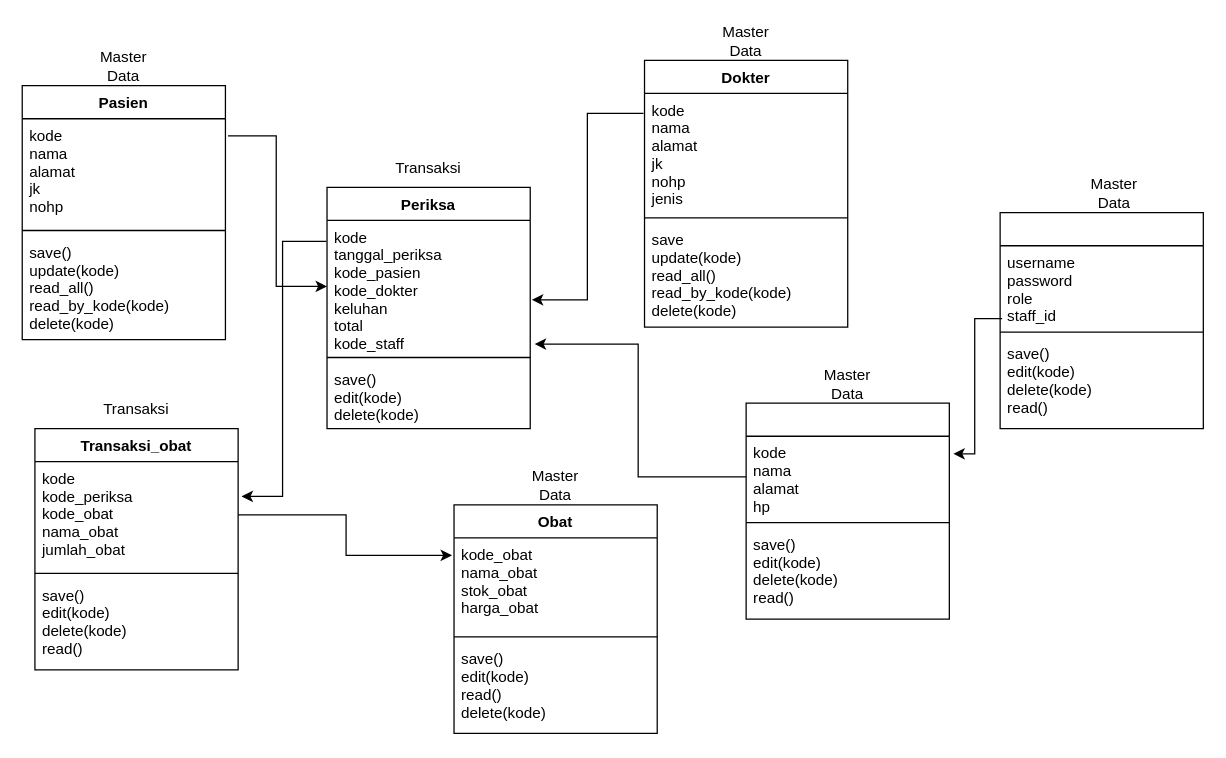
This 1226x758 diagram has some shape labels left out. Each missing label, with the box of its shape:
staff: (745, 402, 949, 619)
users: (999, 211, 1203, 429)
